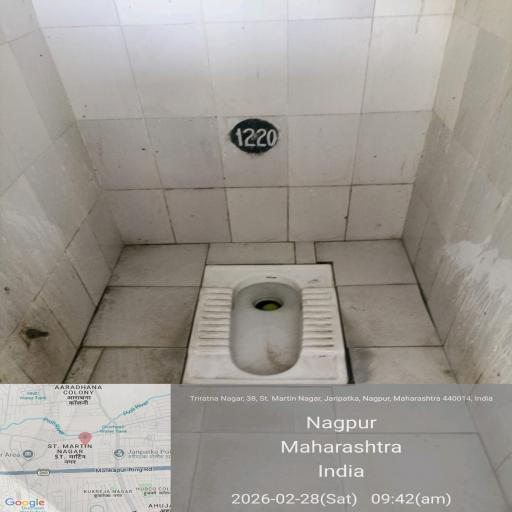clean_floor: (51, 31, 424, 179)
clean_indian: (187, 235, 365, 415)
partial_dirty_floor: (0, 203, 422, 512)
